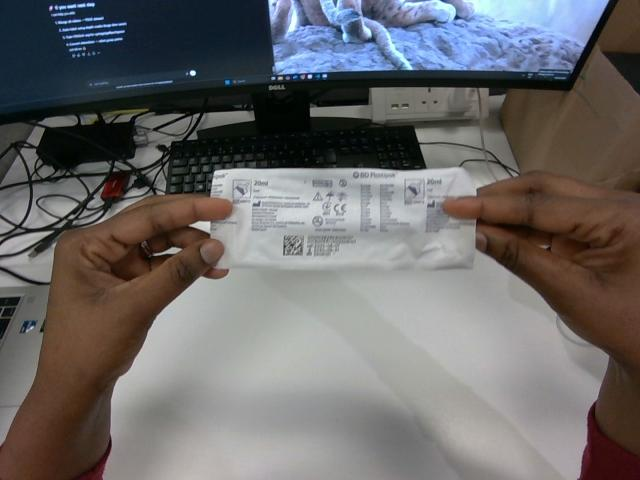syringe: (211, 168, 475, 269)
